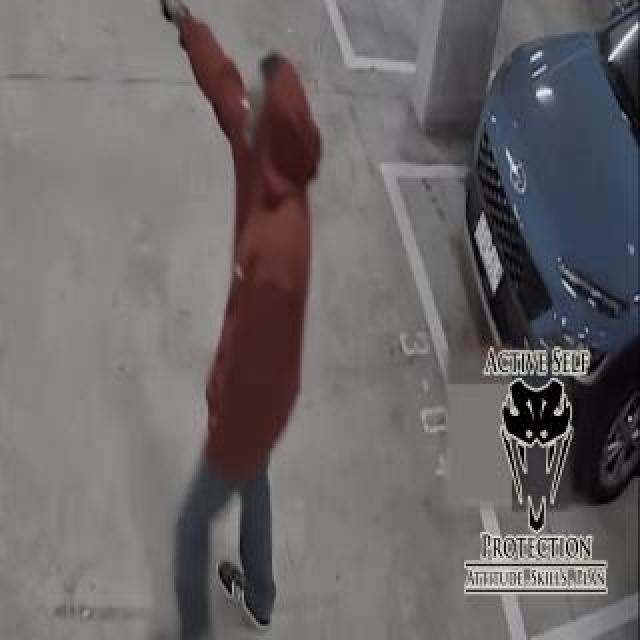Guns: (140, 0, 188, 26)
